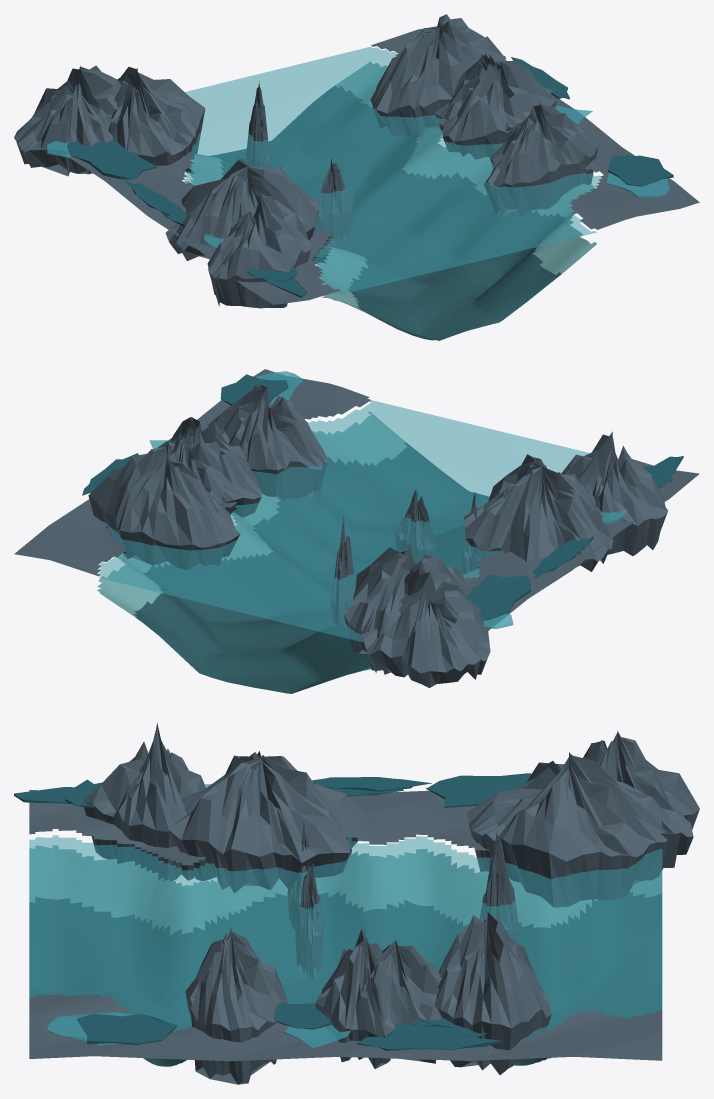
Rendered from water_tile_09.glb.
3 renders of one model, top to bottom at view 1: azimuth 30°, elevation 25°; view 2: azimuth 150°, elevation 25°; view 3: azimuth 270°, elevation 25°, orthographic. The views are drawn at different scales.
Visible parts, largest first — view 1: glacial water surface 09, submerged mineral riverbed.009, single continuous dark slate shoreline.009, visible shallow mineral shelves.009, angular fractured shoreline ledge.092, angular fractured shoreline ledge.094, angular fractured shoreline ledge.096, angular fractured shoreline ledge.099, angular fractured shoreline ledge.097, angular fractured shoreline ledge.098, angular fractured shoreline ledge.095, underwater worn boulder.031 (+7 smaller); view 2: glacial water surface 09, submerged mineral riverbed.009, angular fractured shoreline ledge.094, single continuous dark slate shoreline.009, angular fractured shoreline ledge.096, angular fractured shoreline ledge.099, angular fractured shoreline ledge.092, visible shallow mineral shelves.009, angular fractured shoreline ledge.097, angular fractured shoreline ledge.098, angular fractured shoreline ledge.095, erosion water finger above land.122 (+7 smaller); view 3: glacial water surface 09, submerged mineral riverbed.009, single continuous dark slate shoreline.009, visible shallow mineral shelves.009, angular fractured shoreline ledge.098, angular fractured shoreline ledge.096, angular fractured shoreline ledge.094, angular fractured shoreline ledge.097, angular fractured shoreline ledge.092, angular fractured shoreline ledge.095, angular fractured shoreline ledge.099, angular fractured shoreline ledge.093 (+13 smaller).
Part boxes in pixels (left/top/right/bottom): glacial water surface 09: left=183, top=47, right=601, bottom=294; submerged mineral riverbed.009: left=185, top=85, right=565, bottom=340; single continuous dark slate shoreline.009: left=65, top=26, right=699, bottom=304; visible shallow mineral shelves.009: left=184, top=61, right=596, bottom=316; angular fractured shoreline ledge.092: left=484, top=102, right=598, bottom=216; angular fractured shoreline ledge.094: left=370, top=14, right=505, bottom=137; angular fractured shoreline ledge.096: left=165, top=158, right=318, bottom=260; angular fractured shoreline ledge.099: left=14, top=65, right=120, bottom=176; angular fractured shoreline ledge.097: left=207, top=190, right=310, bottom=308; angular fractured shoreline ledge.098: left=108, top=67, right=205, bottom=173; angular fractured shoreline ledge.095: left=442, top=60, right=556, bottom=159; underwater worn boulder.031: left=314, top=159, right=352, bottom=245; glacial water surface 09: left=98, top=400, right=589, bottom=641; submerged mineral riverbed.009: left=133, top=442, right=489, bottom=693; angular fractured shoreline ledge.094: left=88, top=442, right=240, bottom=569; single continuous dark slate shoreline.009: left=14, top=369, right=699, bottom=657; angular fractured shoreline ledge.096: left=464, top=454, right=613, bottom=571; angular fractured shoreline ledge.099: left=360, top=567, right=490, bottom=687; angular fractured shoreline ledge.092: left=208, top=385, right=327, bottom=499; visible shallow mineral shelves.009: left=97, top=411, right=482, bottom=671; angular fractured shoreline ledge.097: left=561, top=431, right=667, bottom=556; angular fractured shoreline ledge.098: left=343, top=545, right=471, bottom=674; angular fractured shoreline ledge.095: left=158, top=417, right=261, bottom=517; erosion water finger above land.122: left=465, top=574, right=530, bottom=620; glacial water surface 09: left=29, top=835, right=662, bottom=1037; submerged mineral riverbed.009: left=29, top=891, right=662, bottom=1066; single continuous dark slate shoreline.009: left=29, top=790, right=662, bottom=1061; visible shallow mineral shelves.009: left=29, top=845, right=662, bottom=935; angular fractured shoreline ledge.098: left=466, top=752, right=670, bottom=907; angular fractured shoreline ledge.096: left=168, top=751, right=366, bottom=893; angular fractured shoreline ledge.094: left=435, top=912, right=551, bottom=1074; angular fractured shoreline ledge.097: left=83, top=723, right=205, bottom=881; angular fractured shoreline ledge.092: left=185, top=927, right=288, bottom=1084; angular fractured shoreline ledge.095: left=315, top=927, right=395, bottom=1068; angular fractured shoreline ledge.099: left=583, top=730, right=699, bottom=867; angular fractured shoreline ledge.093: left=318, top=939, right=441, bottom=1063.
Size of the model in its own units: 1.07 by 0.3423 by 1.08.
